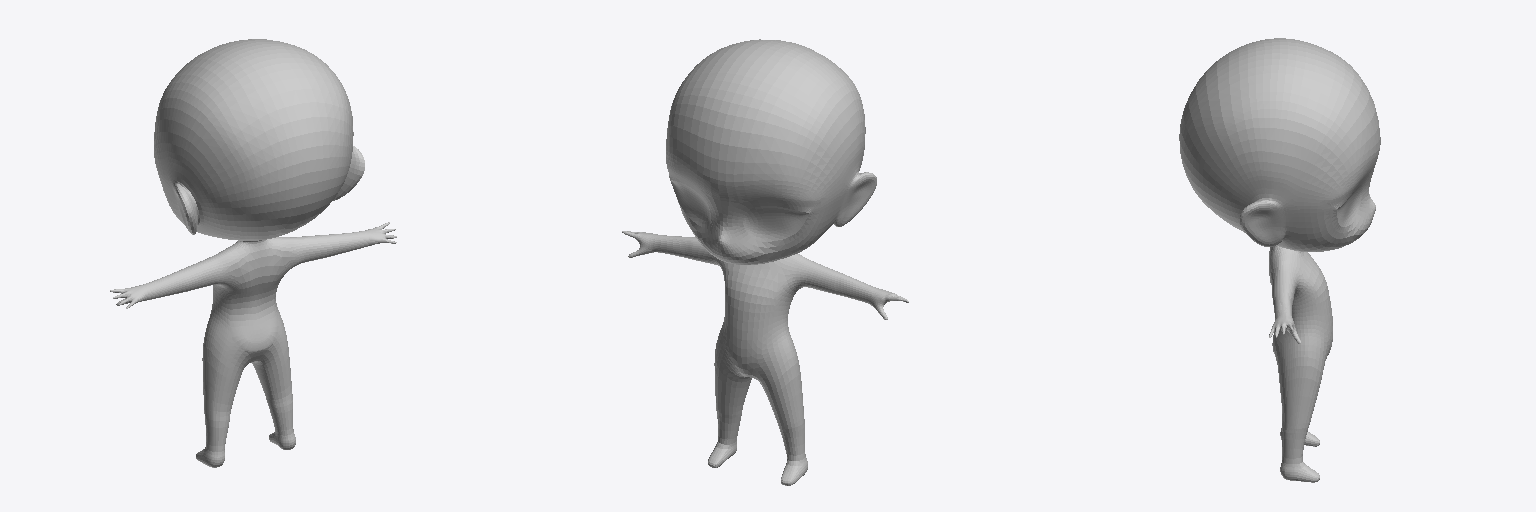
File: human.obj
The picture shows the model from 3 angles: view 1: azimuth 30°, elevation 25°; view 2: azimuth 150°, elevation 25°; view 3: azimuth 270°, elevation 25°; orthographic projection.
Visible parts, largest first — view 1: field_Retopology_hp_Plane.002; view 2: field_Retopology_hp_Plane.002; view 3: field_Retopology_hp_Plane.002.
Boxes of the visible parts, box(x1,y1,x2,y2) form: field_Retopology_hp_Plane.002: box(110, 39, 396, 467); field_Retopology_hp_Plane.002: box(622, 39, 908, 485); field_Retopology_hp_Plane.002: box(1179, 38, 1380, 482).
Size of the model in its own units: 5.89 by 8.24 by 3.63.